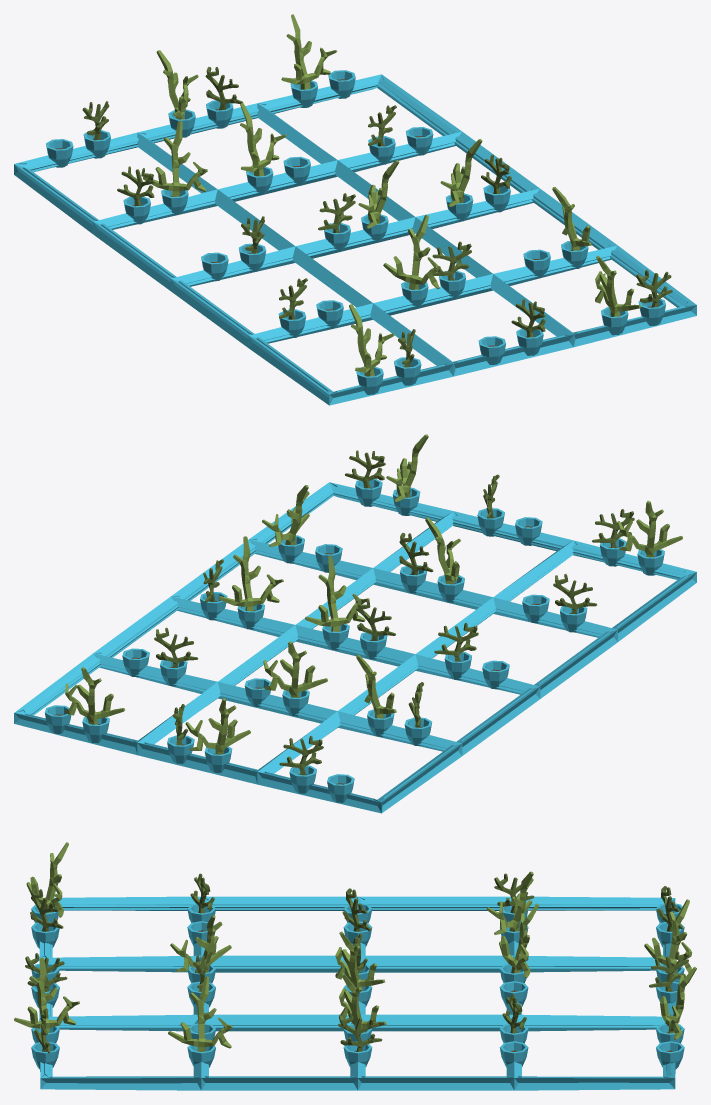
The model's file is UnderWaterFarm.glb.
The picture shows the model from 3 angles, top to bottom: view 1: azimuth 30°, elevation 25°; view 2: azimuth 150°, elevation 25°; view 3: azimuth 270°, elevation 25°; orthographic projection.
Parts seen in each view (by area): view 1: Plane, Cube.005, Cube.013; view 2: Plane, Cube.005, Cube.013; view 3: Plane, Cube.005, Cube.013.
Boxes of the visible parts, x1,y1,x2,y2 form: Plane: [14, 70, 696, 405]; Cube.005: [143, 14, 641, 376]; Cube.013: [82, 67, 672, 367]; Plane: [14, 478, 696, 813]; Cube.005: [64, 434, 682, 754]; Cube.013: [154, 450, 634, 775]; Plane: [31, 896, 684, 1090]; Cube.005: [14, 842, 696, 1051]; Cube.013: [25, 873, 688, 1053].
Size of the model in its own units: 1.34 by 0.2992 by 2.14.
